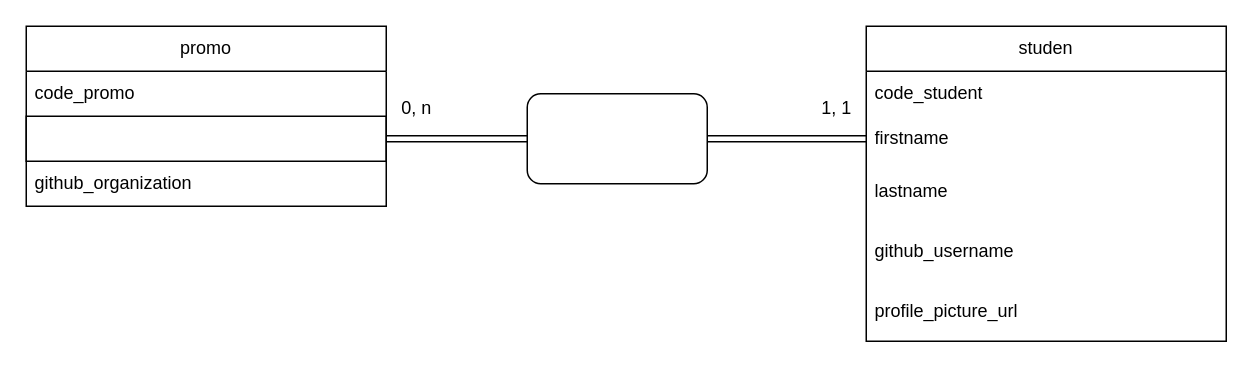
Image size: 1253x368. Some labels were removed from this diagram. The shapes that lost their labels are listed below. From the top down, each one's centre as x and y in pixels, then its label:
At [205,138]: "name".
At [616,138]: "BELONGS TO".
